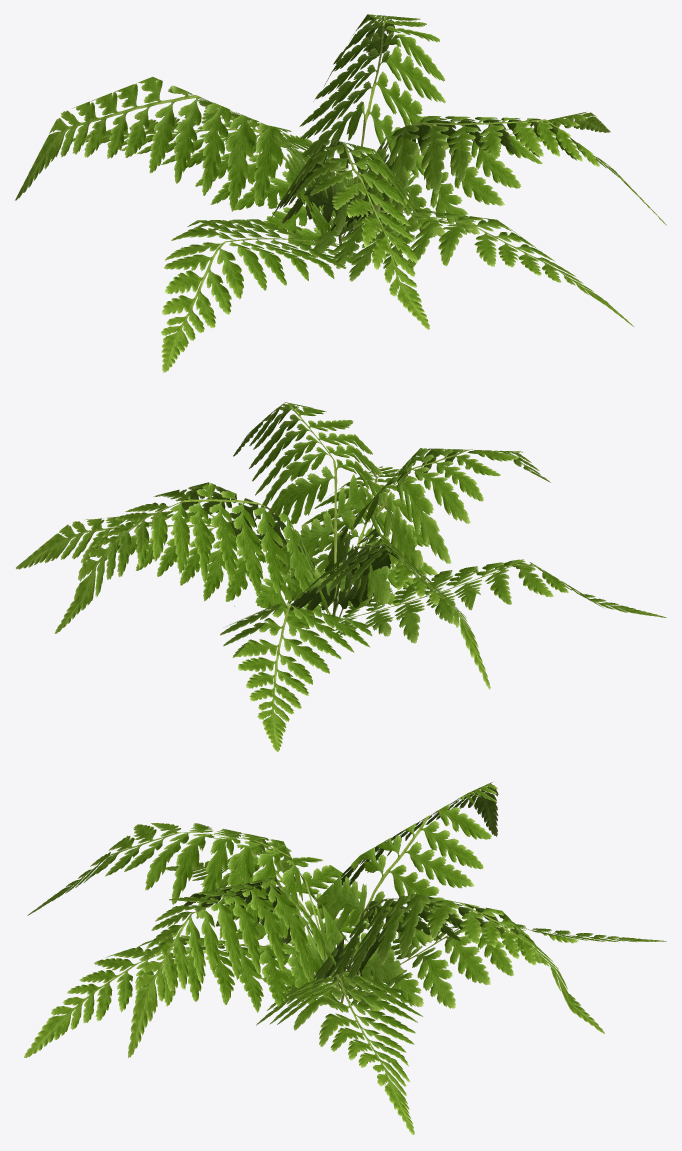
Rendered from fern.fbx.
3 renders of one model, top to bottom at view 1: azimuth 30°, elevation 25°; view 2: azimuth 150°, elevation 25°; view 3: azimuth 270°, elevation 25°, orthographic. The views are drawn at different scales.
Parts seen in each view (by area): view 1: 3; view 2: 3; view 3: 3.
Boxes of the visible parts, x1,y1,x2,y2 form: 3: (15,14,666,372); 3: (16,402,666,751); 3: (24,782,666,1134).
Bounding box in the file's own units: 226 × 61.46 × 221.
